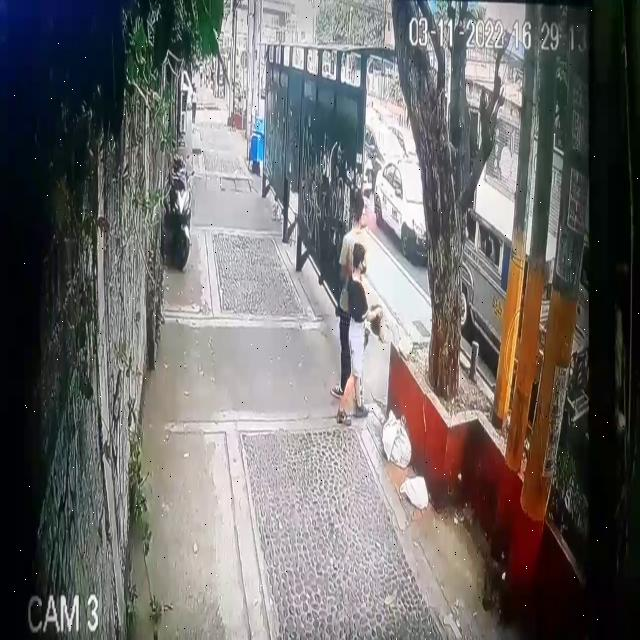human: (336, 244, 386, 426)
trash: (377, 401, 411, 473), (398, 463, 431, 514), (367, 294, 391, 344)
